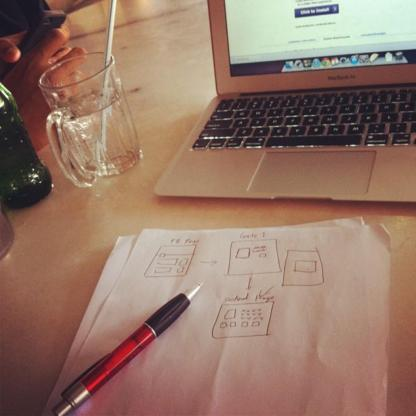board: (156, 0, 409, 209)
